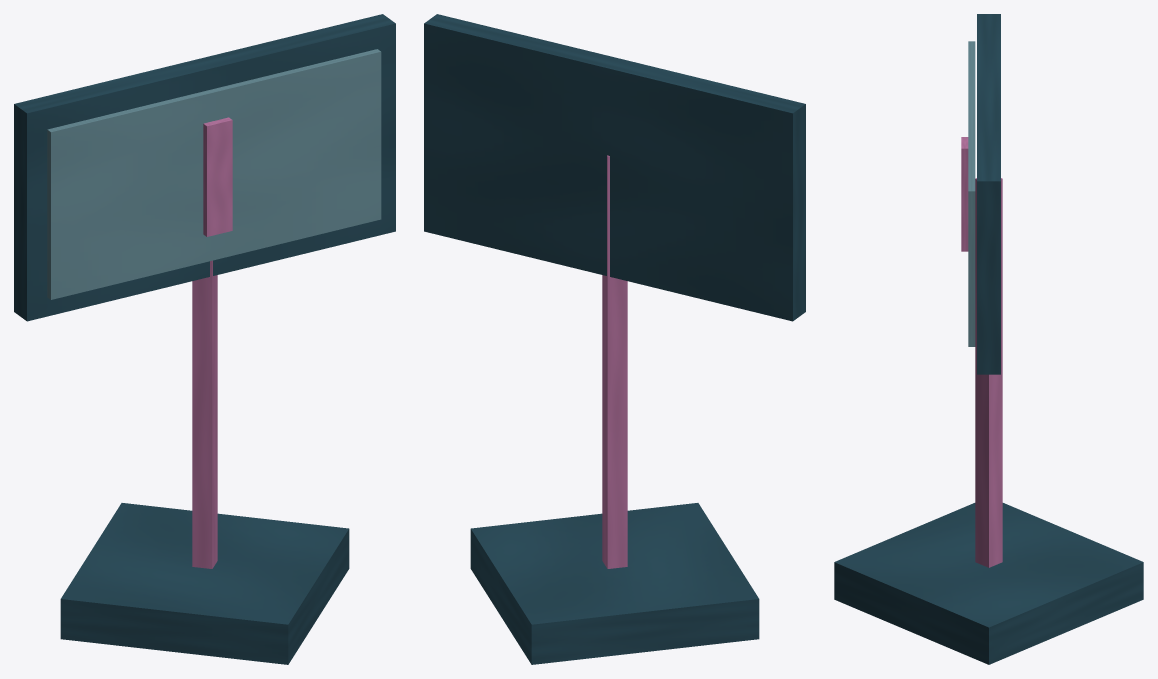
File: atlas100-s061-a11.lod2.glb
3 views of the same model, side by side, from view 1: azimuth 30°, elevation 25°; view 2: azimuth 150°, elevation 25°; view 3: azimuth 270°, elevation 25° (orthographic). The views are drawn at different scales.
Visible parts, largest first — view 1: atlas100-s061-a11:part-003, atlas100-s061-a11:part-000, atlas100-s061-a11:part-002, atlas100-s061-a11:part-001, atlas100-s061-a11:part-005; view 2: atlas100-s061-a11:part-002, atlas100-s061-a11:part-000, atlas100-s061-a11:part-001; view 3: atlas100-s061-a11:part-000, atlas100-s061-a11:part-002, atlas100-s061-a11:part-001, atlas100-s061-a11:part-003, atlas100-s061-a11:part-005.
Boxes of the visible parts, x1,y1,x2,y2 form: atlas100-s061-a11:part-003: (47,49,381,299); atlas100-s061-a11:part-000: (60,503,349,664); atlas100-s061-a11:part-002: (14,14,395,321); atlas100-s061-a11:part-001: (192,260,217,568); atlas100-s061-a11:part-005: (203,117,232,236); atlas100-s061-a11:part-002: (424,14,805,321); atlas100-s061-a11:part-000: (470,503,759,664); atlas100-s061-a11:part-001: (602,155,627,568); atlas100-s061-a11:part-000: (834,503,1143,664); atlas100-s061-a11:part-002: (977,14,1000,374); atlas100-s061-a11:part-001: (975,178,1002,567); atlas100-s061-a11:part-003: (968,41,975,346); atlas100-s061-a11:part-005: (961,137,968,251).
Size of the model in its own units: 1.15 by 1.61 by 0.9.
Materials: 3 (3 with a texture image).
